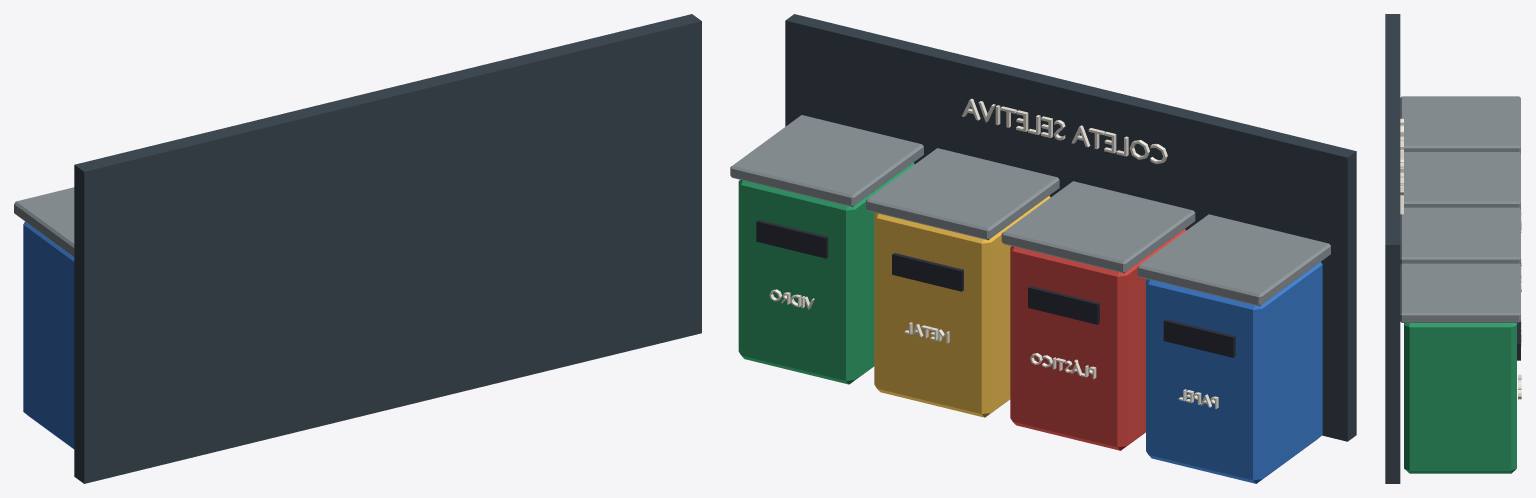
File: coleta.glb
3 views of the same model, side by side, from view 1: azimuth 30°, elevation 25°; view 2: azimuth 150°, elevation 25°; view 3: azimuth 270°, elevation 25° (orthographic). The views are drawn at different scales.
Parts seen in each view (by area): view 1: coleta; view 2: coleta; view 3: coleta.
Part boxes in pixels (x1,y1,x2,y2): coleta: (14,14,701,483); coleta: (730,14,1356,483); coleta: (1385,14,1521,483).
Bounding box in the file's own units: 2.9 × 1.4 × 0.725.
